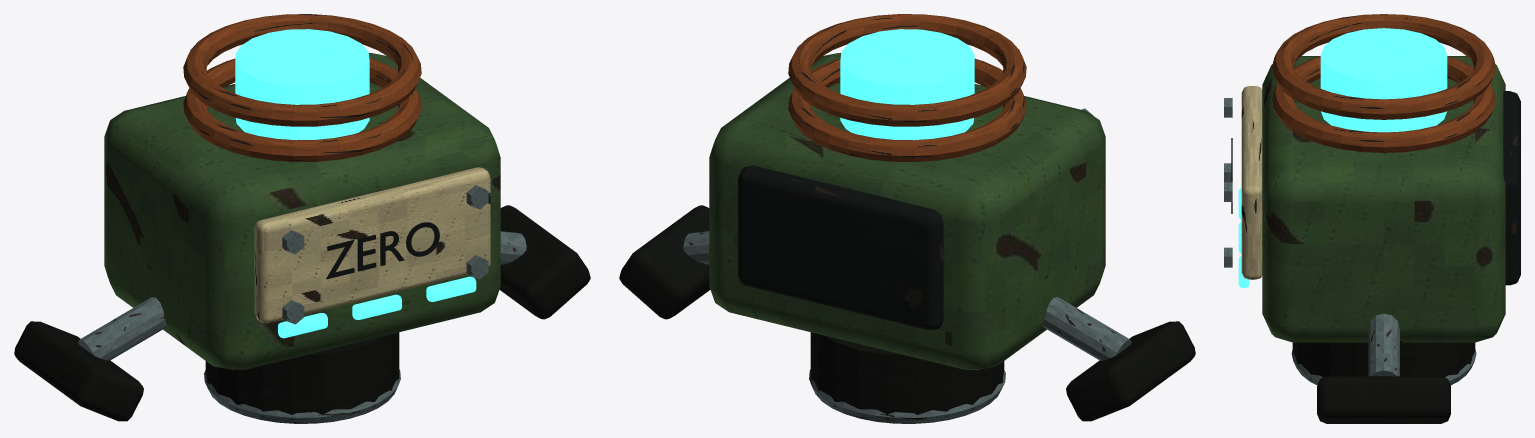
The model's file is eq-zerogravitydrone.glb.
The picture shows the model from 3 angles, left to right: view 1: azimuth 30°, elevation 25°; view 2: azimuth 150°, elevation 25°; view 3: azimuth 270°, elevation 25°; orthographic projection. The views are drawn at different scales.
Parts seen in each view (by area): view 1: Module shell, Cream inset.008, Stabilizer ring.001, Core cartridge, Contact puck, Stabilizer ring, Clamp jaw, Clamp jaw.001, Clamp arm, Contact rim, Mark_ZERO, Battery pip.002 (+3 smaller); view 2: Module shell, Battery cartridge, Stabilizer ring.001, Core cartridge, Contact puck, Stabilizer ring, Clamp jaw, Clamp jaw.001, Clamp arm, Contact rim, Clamp arm.001; view 3: Module shell, Stabilizer ring.001, Core cartridge, Stabilizer ring, Clamp jaw.001, Contact puck, Cream inset.008, Battery cartridge, Clamp arm.001, Contact rim.
Part boxes in pixels (x1,y1,x2,y2): Module shell: (104,53,500,370); Cream inset.008: (254,167,490,323); Stabilizer ring.001: (183,14,421,126); Core cartridge: (235,29,369,140); Contact puck: (205,332,399,420); Stabilizer ring: (183,58,421,161); Clamp jaw: (14,321,143,421); Clamp jaw.001: (499,205,590,319); Clamp arm: (78,297,166,360); Contact rim: (204,369,400,423); Mark_ZERO: (326,222,439,279); Battery pip.002: (426,276,476,301); Module shell: (709,53,1105,370); Battery cartridge: (738,165,943,329); Stabilizer ring.001: (788,14,1026,126); Core cartridge: (840,29,974,140); Contact puck: (810,332,1004,420); Stabilizer ring: (788,58,1026,161); Clamp jaw: (1066,321,1195,421); Clamp jaw.001: (619,205,710,319); Clamp arm: (1043,297,1131,360); Contact rim: (809,369,1005,423); Clamp arm.001: (683,231,709,264); Module shell: (1262,56,1505,342); Stabilizer ring.001: (1272,14,1495,119); Core cartridge: (1320,28,1447,132); Stabilizer ring: (1272,56,1495,152); Clamp jaw.001: (1317,376,1450,423); Contact puck: (1292,342,1475,379); Cream inset.008: (1241,86,1262,279); Battery cartridge: (1503,91,1520,285); Clamp arm.001: (1368,313,1399,376); Contact rim: (1291,349,1476,385).
Size of the model in its own units: 0.4561 by 0.28 by 0.244.
7 materials, 7 textured.
